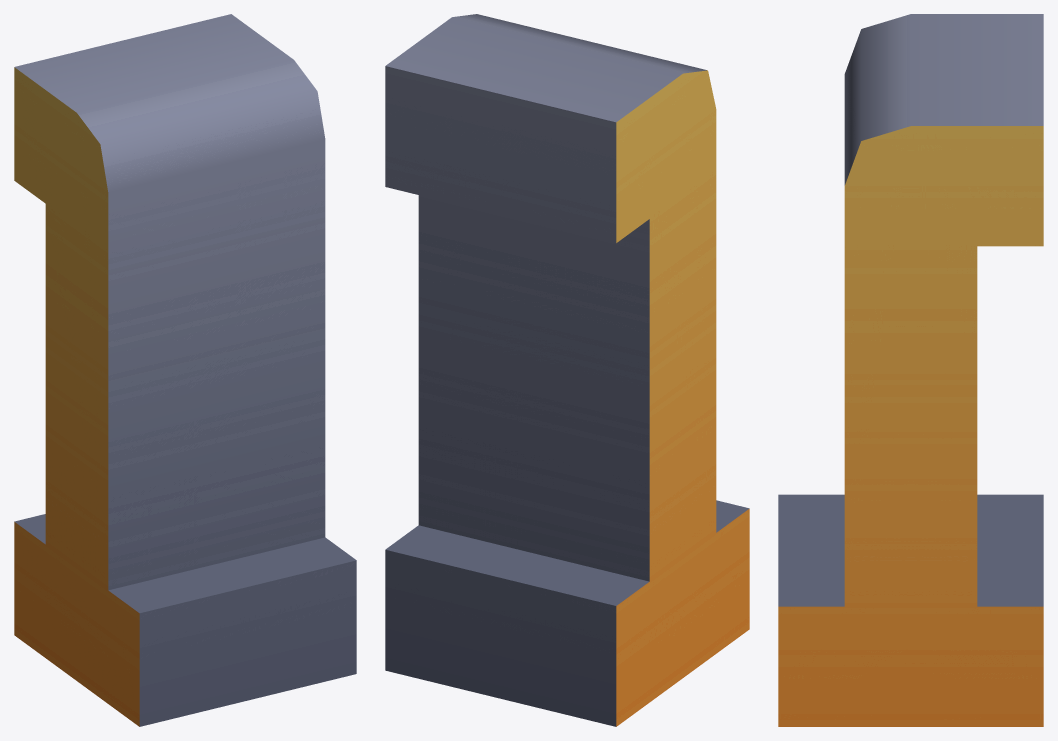
The model's file is number-1.glb.
3 views of the same model, side by side, from view 1: azimuth 30°, elevation 25°; view 2: azimuth 150°, elevation 25°; view 3: azimuth 270°, elevation 25° (orthographic). The views are drawn at different scales.
Parts seen in each view (by area): view 1: number-1; view 2: number-1; view 3: number-1.
Boxes of the visible parts, left/top/right/bottom form: number-1: left=14, top=14, right=356, bottom=726; number-1: left=385, top=14, right=749, bottom=726; number-1: left=778, top=14, right=1043, bottom=726.
Bounding box in the file's own units: 0.2 × 0.5 × 0.2.
Materials: 1 (1 with a texture image).
